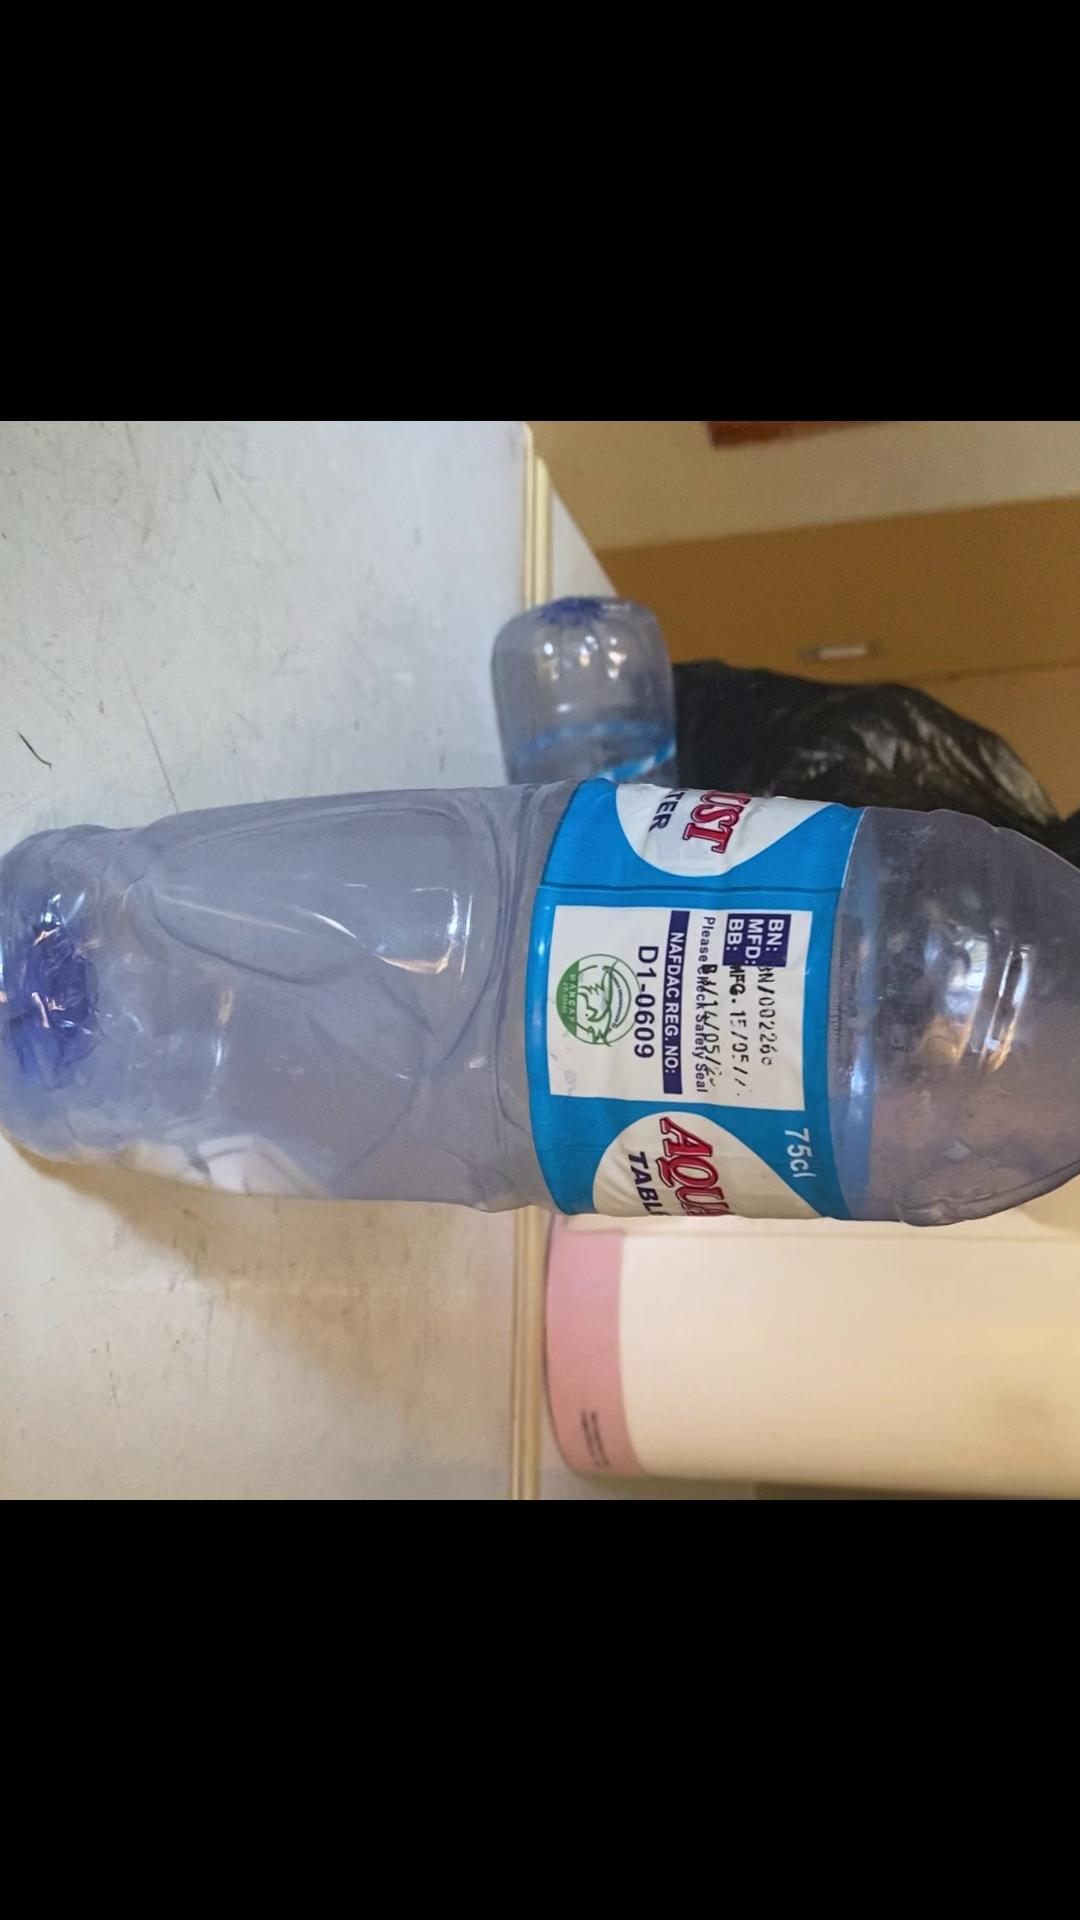crumbled: (0, 767, 1080, 1240)
label: (537, 794, 847, 1220)
